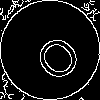O: (25, 25, 85, 86)
